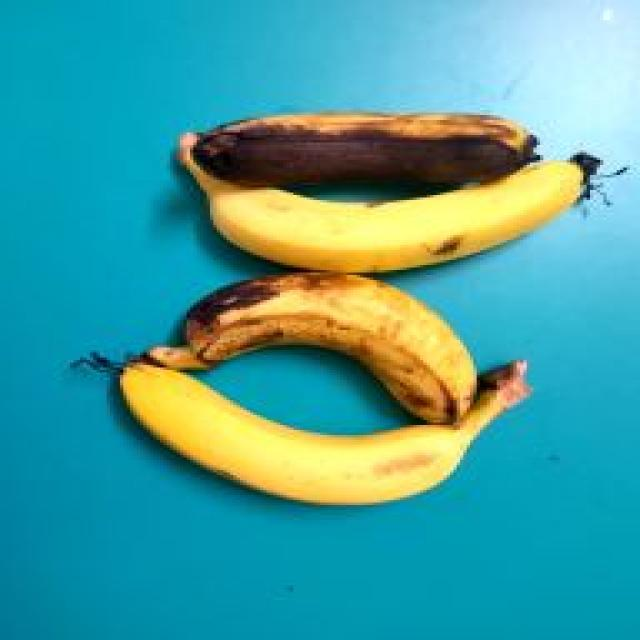Organik: (105, 346, 562, 522), (168, 268, 496, 422), (184, 156, 610, 272), (173, 98, 552, 184)
